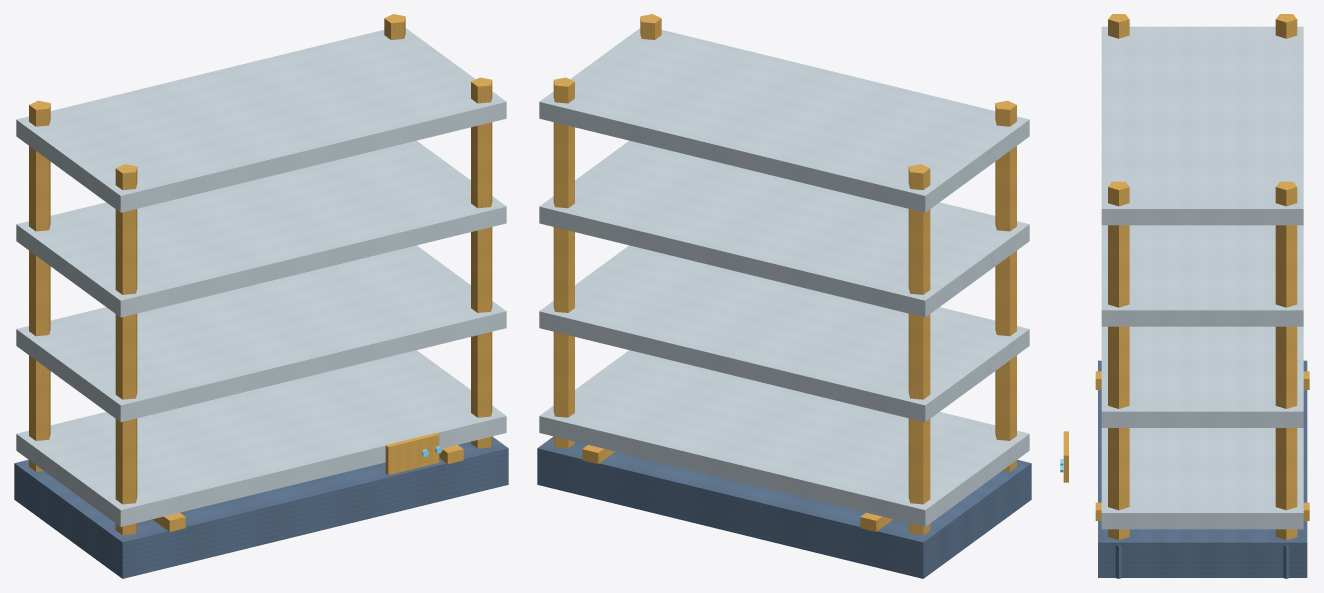
File: atlas100-s054-a06.lod1.glb
The picture shows the model from 3 angles, left to right: view 1: azimuth 30°, elevation 25°; view 2: azimuth 150°, elevation 25°; view 3: azimuth 270°, elevation 25°; orthographic projection. The views are drawn at different scales.
Parts seen in each view (by area): view 1: atlas100-s054-a06:part-014, atlas100-s054-a06:part-013, atlas100-s054-a06:part-012, atlas100-s054-a06:part-011, atlas100-s054-a06:part-000, atlas100-s054-a06:part-005, atlas100-s054-a06:part-009, atlas100-s054-a06:part-003, atlas100-s054-a06:part-015; view 2: atlas100-s054-a06:part-014, atlas100-s054-a06:part-011, atlas100-s054-a06:part-013, atlas100-s054-a06:part-012, atlas100-s054-a06:part-000, atlas100-s054-a06:part-003, atlas100-s054-a06:part-007, atlas100-s054-a06:part-005; view 3: atlas100-s054-a06:part-014, atlas100-s054-a06:part-011, atlas100-s054-a06:part-013, atlas100-s054-a06:part-012, atlas100-s054-a06:part-000, atlas100-s054-a06:part-007, atlas100-s054-a06:part-009, atlas100-s054-a06:part-003, atlas100-s054-a06:part-005.
Part boxes in pixels (left/top/right/bottom): atlas100-s054-a06:part-014: left=16, top=28, right=506, bottom=212; atlas100-s054-a06:part-013: left=16, top=140, right=506, bottom=317; atlas100-s054-a06:part-012: left=16, top=245, right=506, bottom=422; atlas100-s054-a06:part-011: left=16, top=350, right=506, bottom=526; atlas100-s054-a06:part-000: left=14, top=436, right=508, bottom=578; atlas100-s054-a06:part-005: left=115, top=164, right=137, bottom=535; atlas100-s054-a06:part-009: left=471, top=77, right=492, bottom=448; atlas100-s054-a06:part-003: left=29, top=100, right=50, bottom=471; atlas100-s054-a06:part-015: left=385, top=433, right=439, bottom=475; atlas100-s054-a06:part-014: left=539, top=28, right=1029, bottom=212; atlas100-s054-a06:part-011: left=539, top=350, right=1029, bottom=526; atlas100-s054-a06:part-013: left=539, top=140, right=1029, bottom=317; atlas100-s054-a06:part-012: left=539, top=245, right=1029, bottom=422; atlas100-s054-a06:part-000: left=537, top=436, right=1031, bottom=578; atlas100-s054-a06:part-003: left=908, top=164, right=930, bottom=535; atlas100-s054-a06:part-007: left=553, top=77, right=574, bottom=448; atlas100-s054-a06:part-005: left=995, top=100, right=1016, bottom=471; atlas100-s054-a06:part-014: left=1101, top=26, right=1303, bottom=225; atlas100-s054-a06:part-011: left=1101, top=428, right=1303, bottom=529; atlas100-s054-a06:part-013: left=1101, top=225, right=1303, bottom=326; atlas100-s054-a06:part-012: left=1101, top=326, right=1303, bottom=427; atlas100-s054-a06:part-000: left=1098, top=360, right=1307, bottom=577; atlas100-s054-a06:part-007: left=1275, top=181, right=1297, bottom=539; atlas100-s054-a06:part-009: left=1108, top=181, right=1129, bottom=539; atlas100-s054-a06:part-003: left=1275, top=14, right=1297, bottom=38; atlas100-s054-a06:part-005: left=1108, top=14, right=1129, bottom=38.
Size of the model in its own units: 2.89 by 2.84 by 1.66.
Materials: 4 (4 with a texture image).
